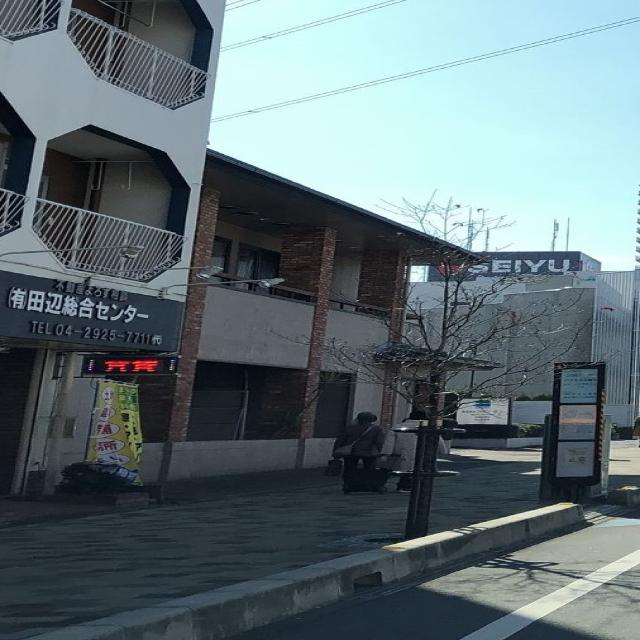dogwood: (266, 189, 638, 541)
